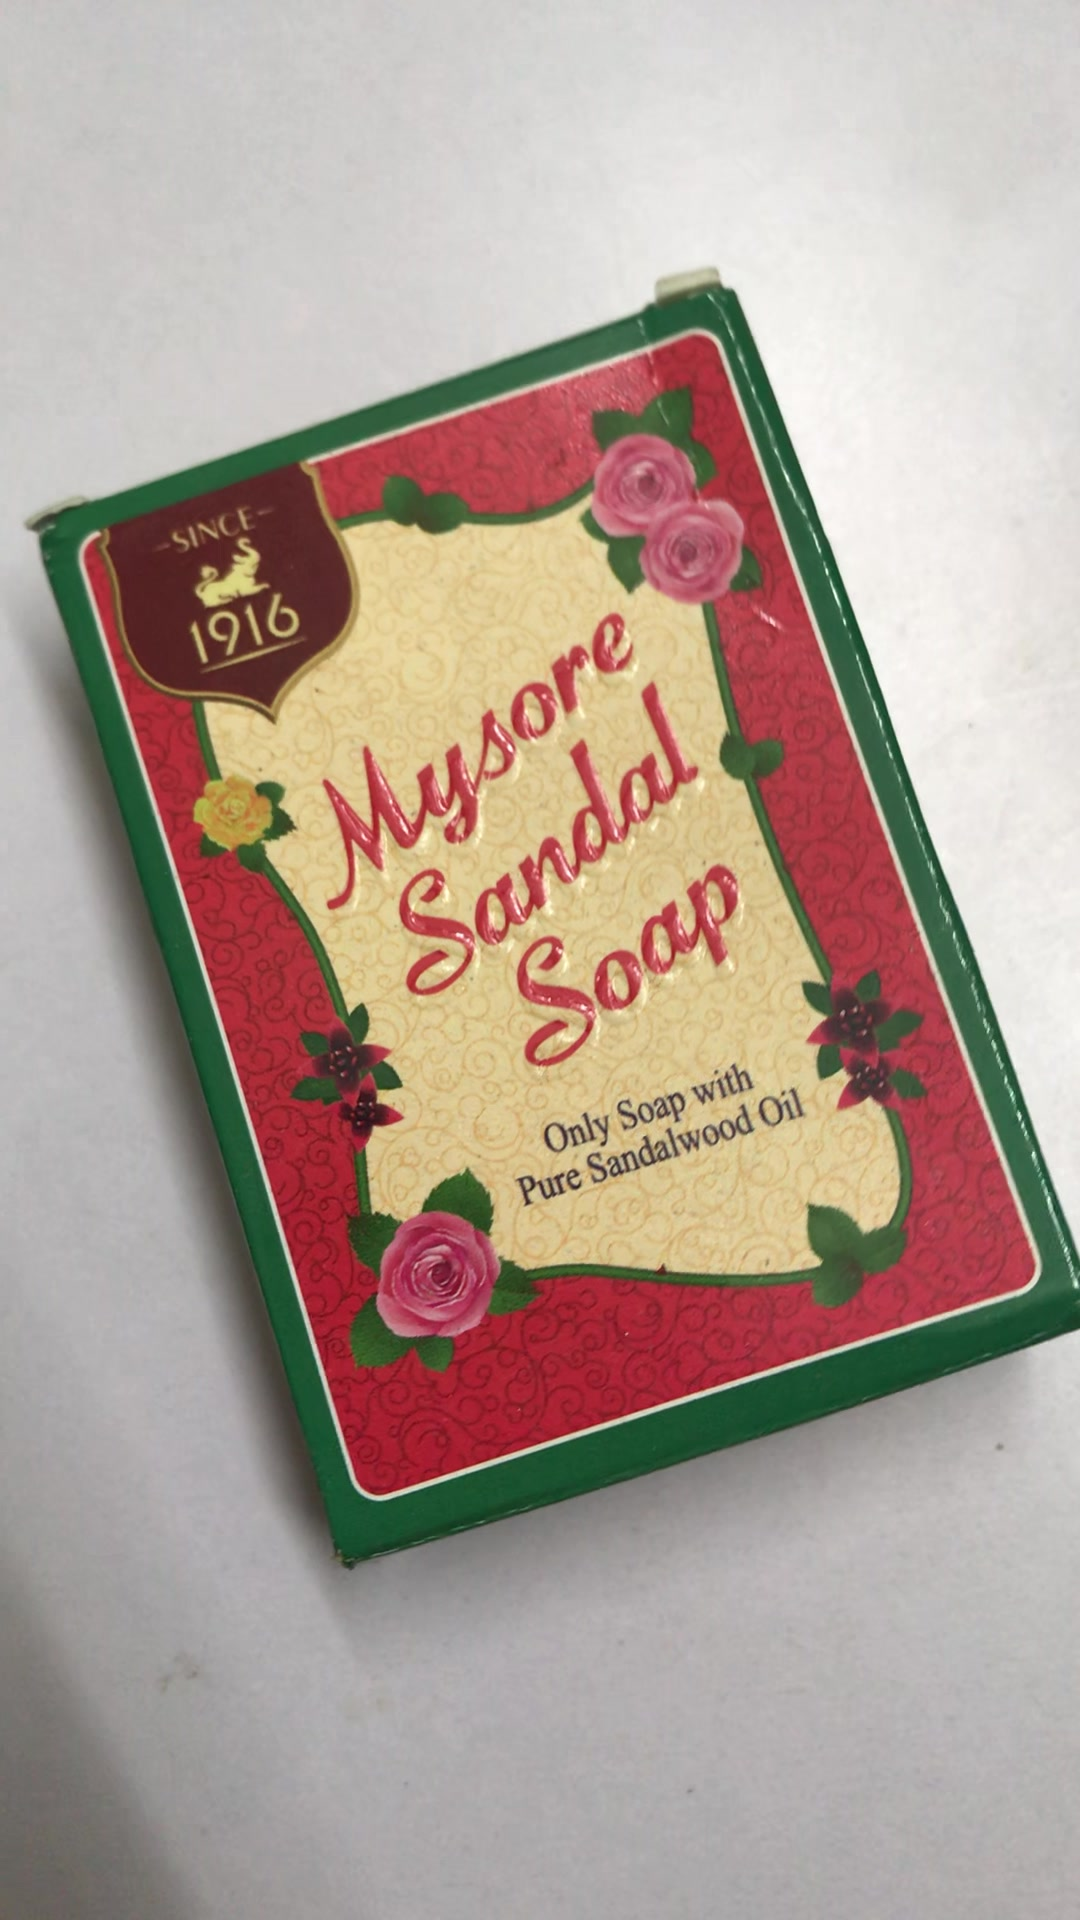mysore sandal soap: (24, 272, 1080, 1567)
